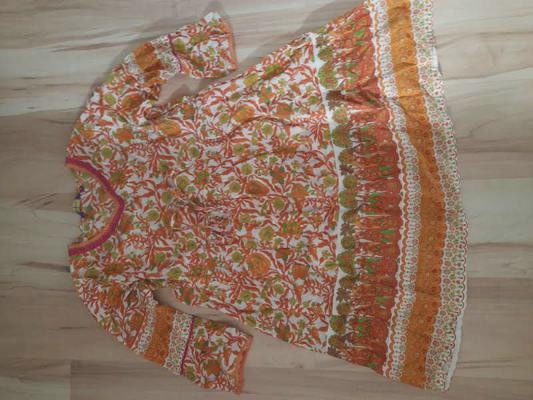Dress: (49, 4, 480, 393)
